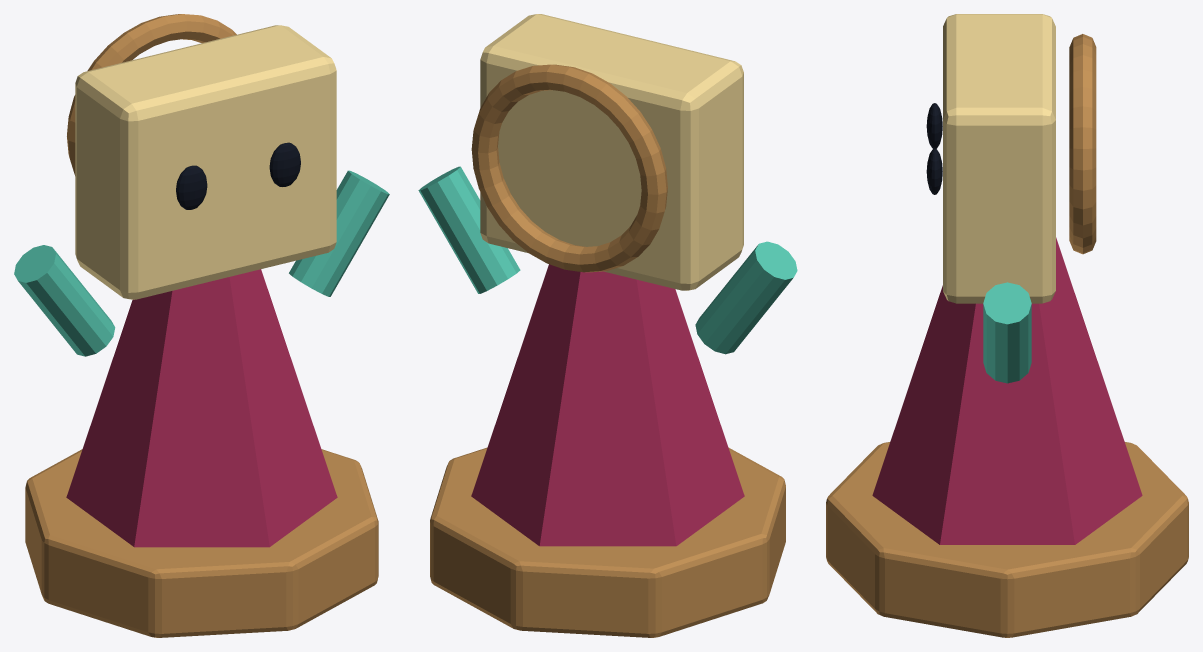
The model's file is Mission_mascot_chase.fbx.
The picture shows the model from 3 angles, left to right: view 1: azimuth 30°, elevation 25°; view 2: azimuth 150°, elevation 25°; view 3: azimuth 270°, elevation 25°; orthographic projection.
Visible parts, largest first — view 1: Mission_mascot_chase.Mesh; view 2: Mission_mascot_chase.Mesh; view 3: Mission_mascot_chase.Mesh.
Boxes of the visible parts, x1,y1,x2,y2 form: Mission_mascot_chase.Mesh: (14,14,389,637); Mission_mascot_chase.Mesh: (418,14,797,637); Mission_mascot_chase.Mesh: (826,14,1188,637).
Bounding box in the file's own units: 78.66 × 107 × 67.37.
